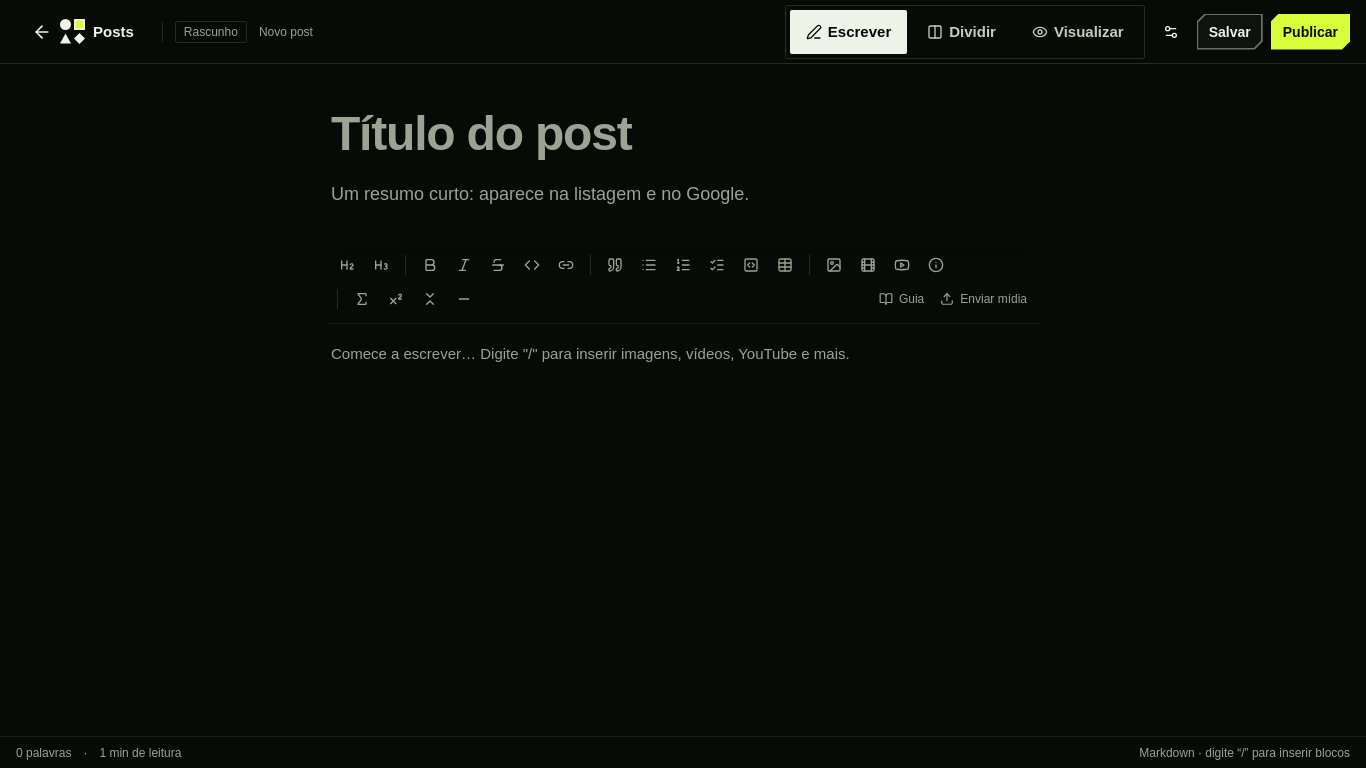
it: post novo › o slug acompanha o título e o post é criado ao publicar
Expected: the text "Novo post" is shown, [259,24,313,40]
Type "Olá, Mundo! Meu 1º post" into the text box labelled "Título" at coordinates (683, 134), box [331,104,1035,164]
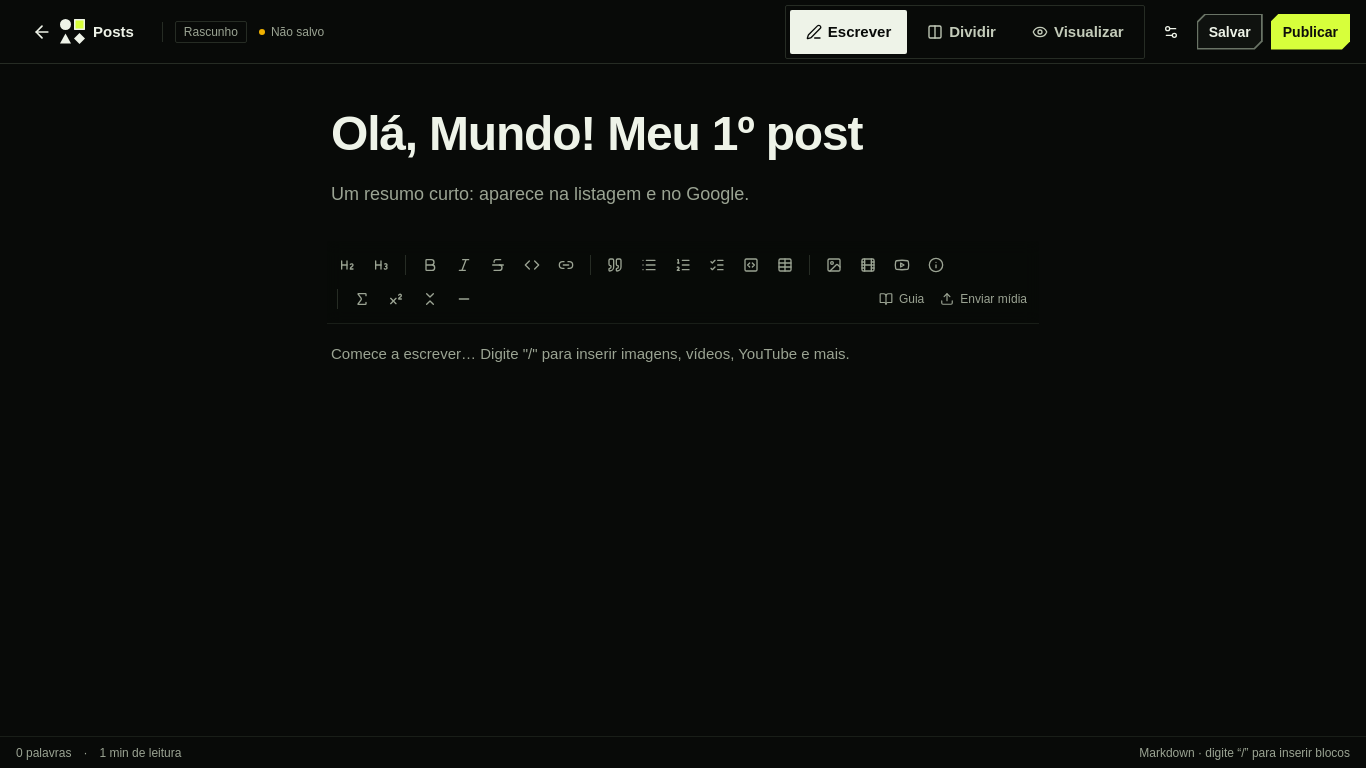
Type "Um resumo." into the text box labelled "resumo" at coordinates (683, 195), box [331,180,1035,209]
(page scrolled)
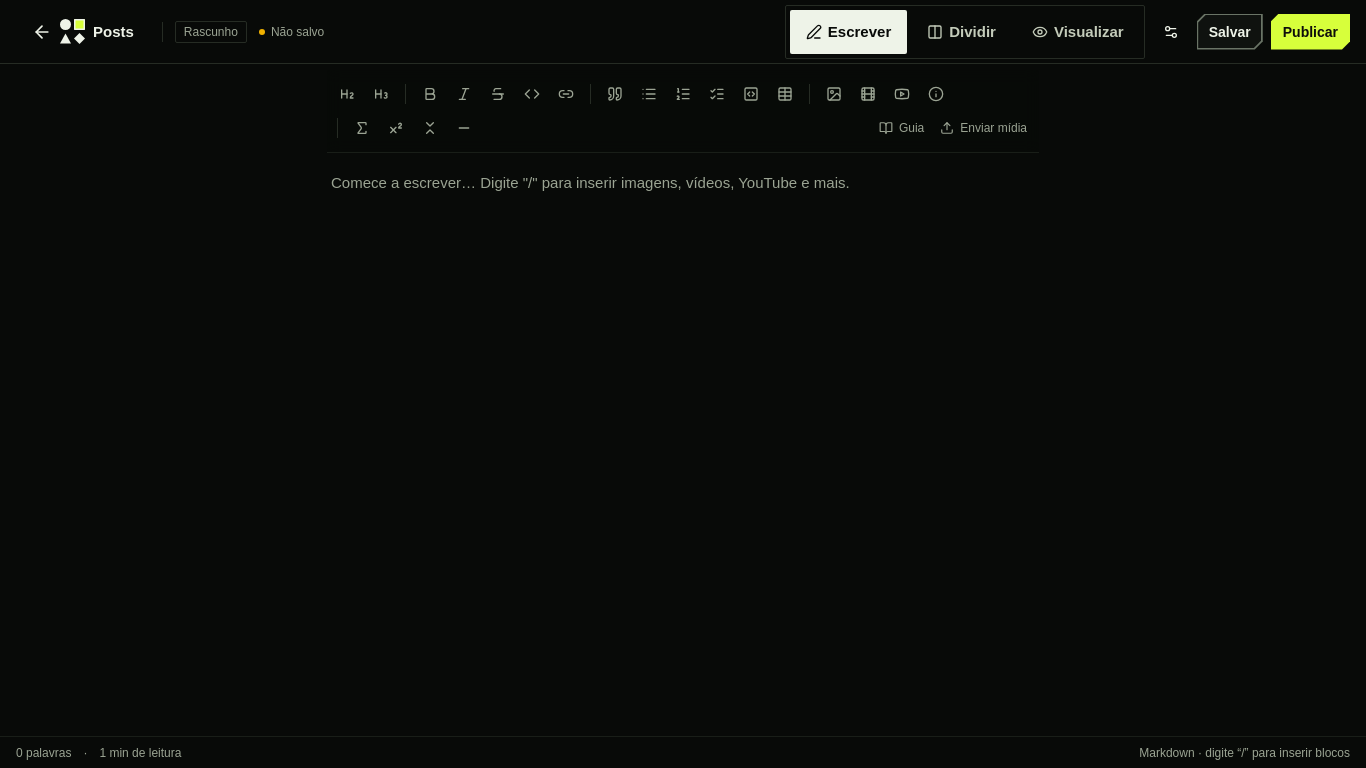
Replace the text in the text box named "Conteúdo do post em Markdown" with "Primeiro parágrafo." at coordinates (683, 400), box [331,169,1035,630]
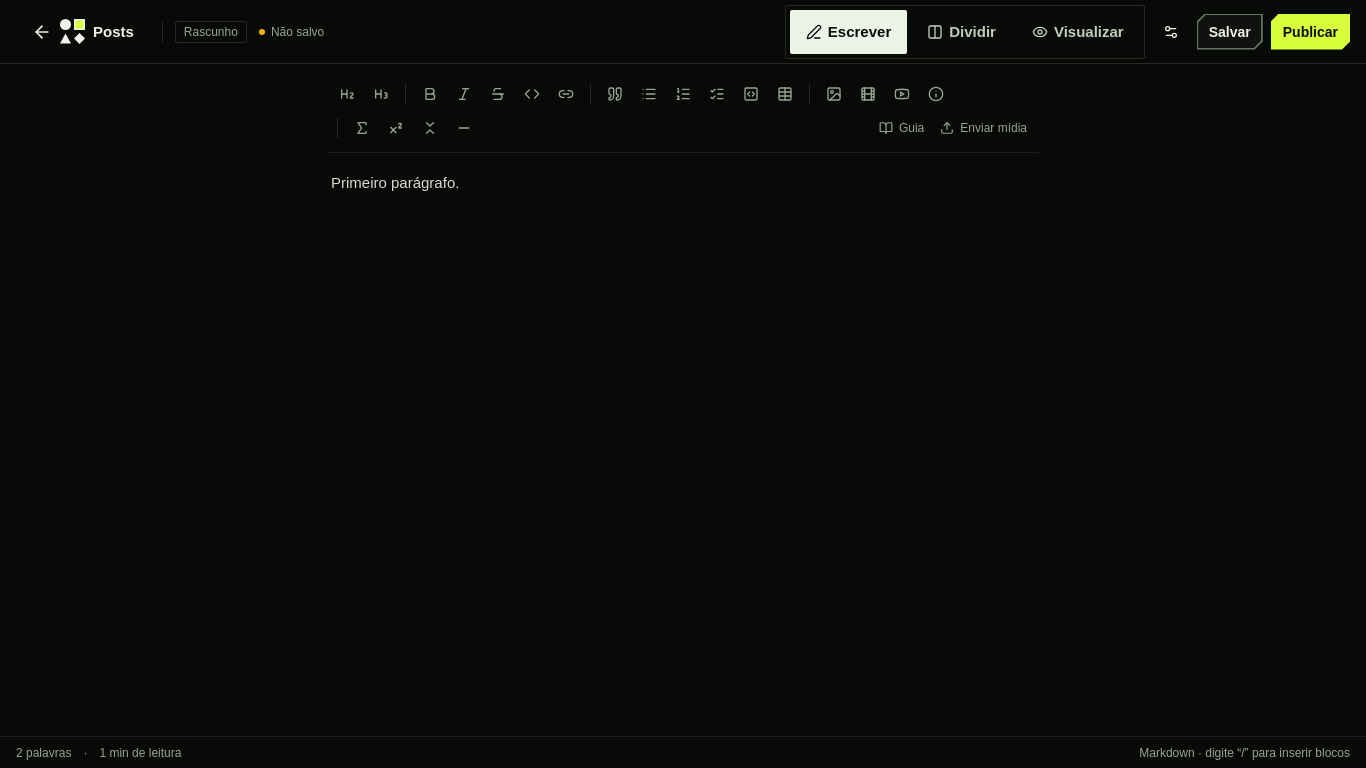
Now the text "Não salvo" is shown, box [259,24,324,40]
Click the button "Publicar" at coordinates (1310, 32), box [1271,14,1350,50]
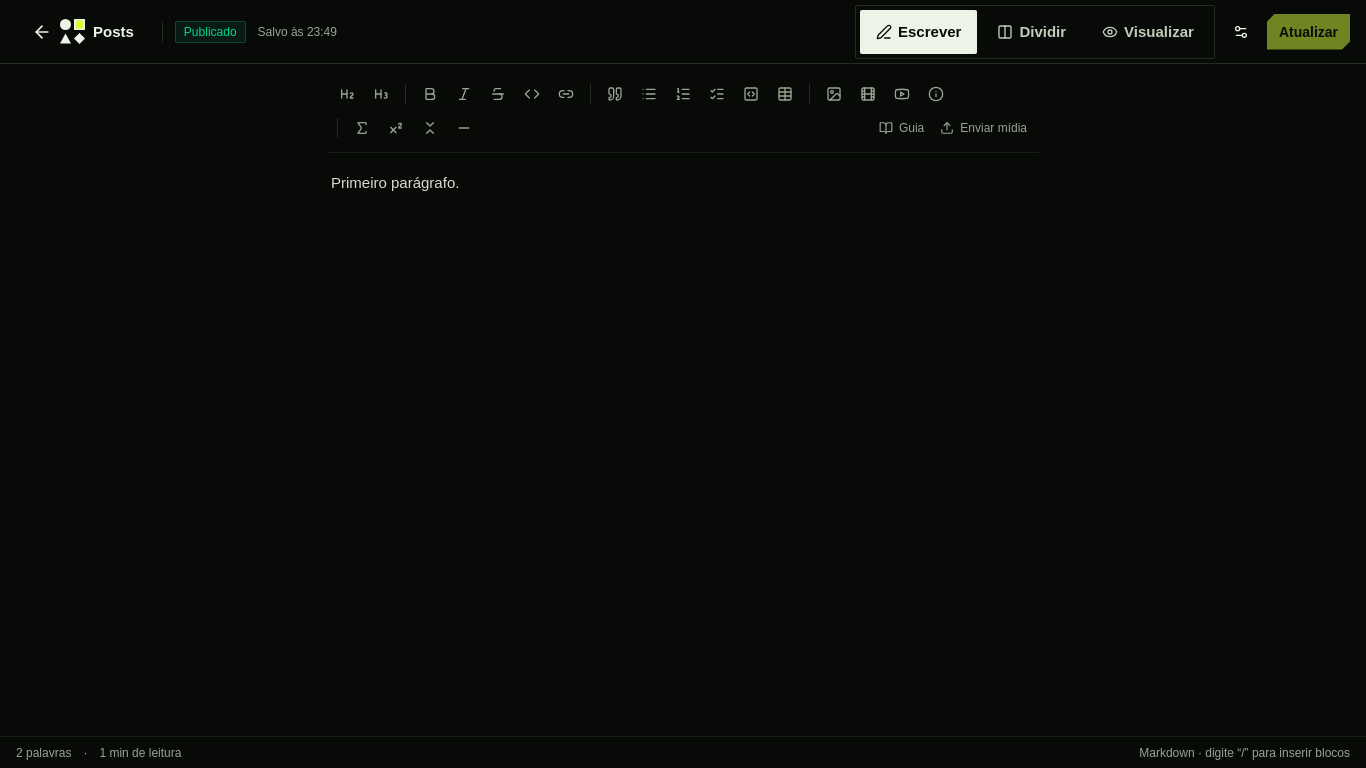
Now the text "Salvo às 23:49" is shown, box [258,24,337,40]
